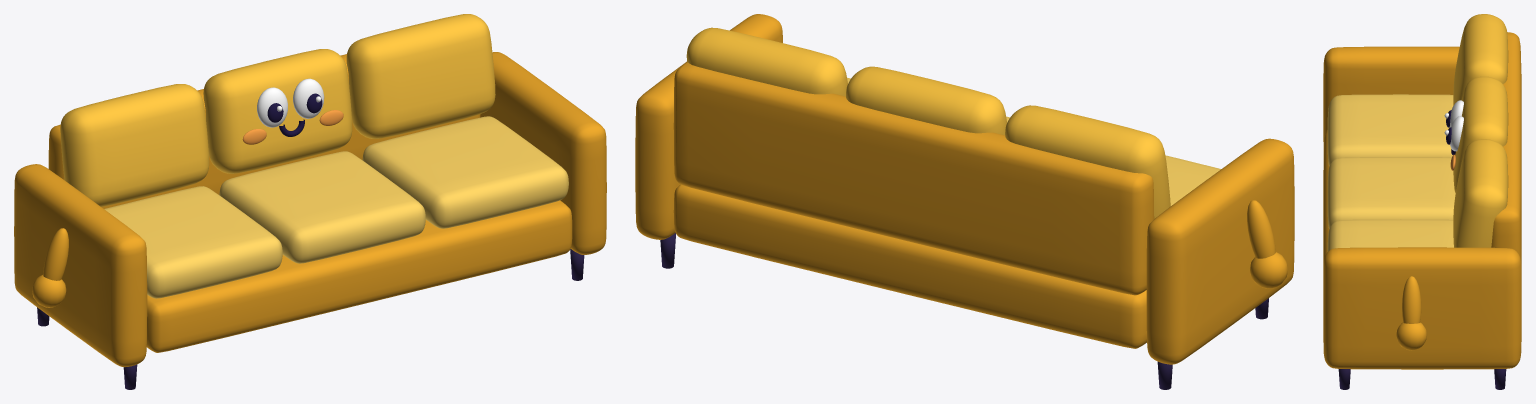
Rendered from sofa-3.glb.
3 views of the same model, side by side, from view 1: azimuth 30°, elevation 25°; view 2: azimuth 150°, elevation 25°; view 3: azimuth 270°, elevation 25° (orthographic). The views are drawn at different scales.
Parts seen in each view (by area): view 1: Основание.001, Подлокотник.002, Подушка спинки.004, Подушка сиденья.004, Подушка сиденья.003, Подушка спинки.002, Подушка спинки.003, Подушка сиденья.002, Подлокотник.003, Спинка.001, Рука L.001, Ладошка L.001 (+2 smaller); view 2: Спинка.001, Основание.001, Подлокотник.002, Подушка спинки.002, Подлокотник.003, Подушка спинки.004, Подушка спинки.003, Подушка сиденья.002, Рука L.001, Ладошка L.001; view 3: Подлокотник.003, Подушка сиденья.003, Подушка сиденья.002, Подлокотник.002, Подушка спинки.004, Спинка.001, Подушка сиденья.004, Подушка спинки.002, Подушка спинки.003, Рука R.001, Ладошка R.001, Основание.001 (+4 smaller).
Part boxes in pixels (left/top/right/bottom): Основание.001: left=146, top=200, right=572, bottom=352; Подлокотник.002: left=14, top=164, right=147, bottom=367; Подушка спинки.004: left=346, top=14, right=495, bottom=138; Подушка сиденья.004: left=362, top=116, right=568, bottom=228; Подушка сиденья.003: left=219, top=151, right=425, bottom=263; Подушка спинки.002: left=60, top=84, right=209, bottom=206; Подушка спинки.003: left=203, top=49, right=352, bottom=173; Подушка сиденья.002: left=104, top=186, right=282, bottom=298; Подлокотник.003: left=480, top=52, right=606, bottom=254; Спинка.001: left=48, top=54, right=480, bottom=208; Рука L.001: left=43, top=228, right=68, bottom=280; Ладошка L.001: left=32, top=275, right=66, bottom=307; Спинка.001: left=673, top=62, right=1154, bottom=295; Основание.001: left=673, top=184, right=1146, bottom=348; Подлокотник.002: left=1146, top=138, right=1294, bottom=364; Подушка спинки.002: left=1005, top=105, right=1170, bottom=218; Подлокотник.003: left=635, top=14, right=782, bottom=239; Подушка спинки.004: left=686, top=27, right=847, bottom=96; Подушка спинки.003: left=846, top=66, right=1006, bottom=135; Подушка сиденья.002: left=1165, top=155, right=1221, bottom=205; Рука L.001: left=1247, top=200, right=1275, bottom=258; Ладошка L.001: left=1250, top=252, right=1287, bottom=288; Подлокотник.003: left=1323, top=247, right=1521, bottom=369; Подушка сиденья.003: left=1327, top=157, right=1455, bottom=228; Подушка сиденья.002: left=1327, top=94, right=1453, bottom=166; Подлокотник.002: left=1323, top=46, right=1521, bottom=147; Подушка спинки.004: left=1453, top=139, right=1508, bottom=247; Спинка.001: left=1491, top=32, right=1521, bottom=263; Подушка сиденья.004: left=1327, top=219, right=1453, bottom=251; Подушка спинки.002: left=1453, top=14, right=1508, bottom=105; Подушка спинки.003: left=1453, top=76, right=1508, bottom=192; Рука R.001: left=1402, top=276, right=1421, bottom=323; Ладошка R.001: left=1396, top=322, right=1426, bottom=350; Основание.001: left=1323, top=130, right=1521, bottom=274.
Bounding box in the file's own units: 2.7 × 0.9774 × 0.9192.
